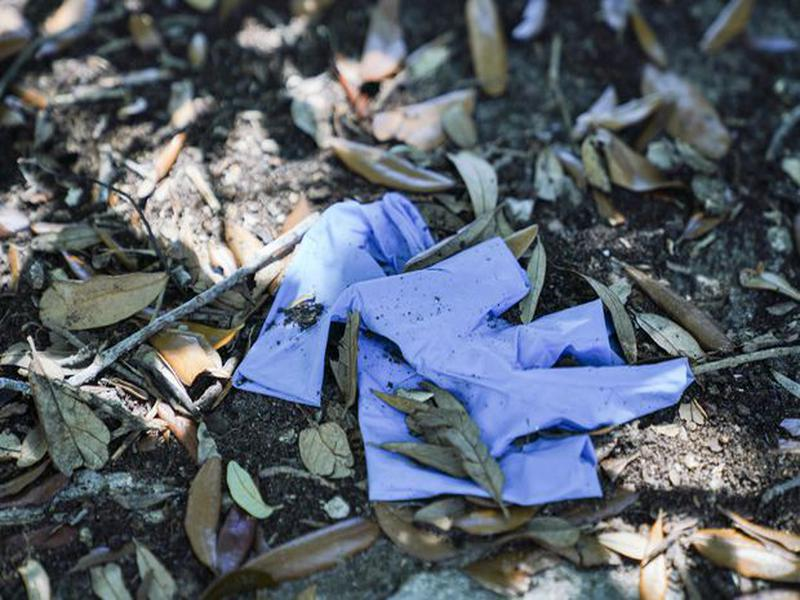gloves: (225, 190, 700, 508)
leaf: (17, 343, 126, 475), (31, 263, 174, 333), (323, 132, 459, 192), (219, 458, 289, 527), (629, 304, 706, 362), (292, 422, 360, 485)
